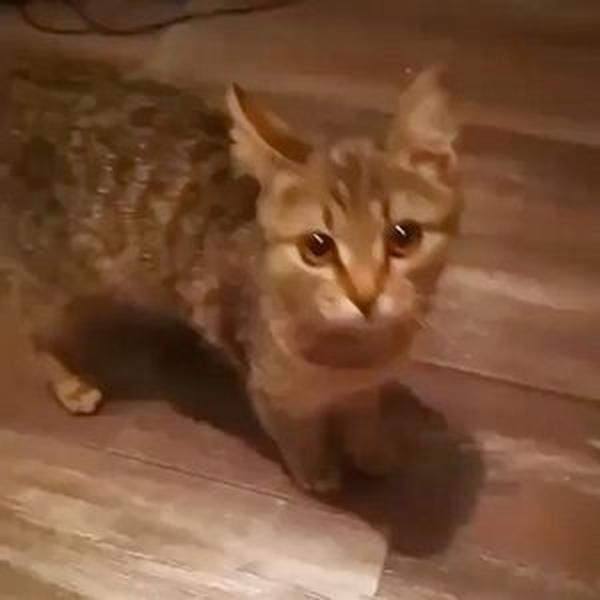michi: (5, 27, 475, 497)
